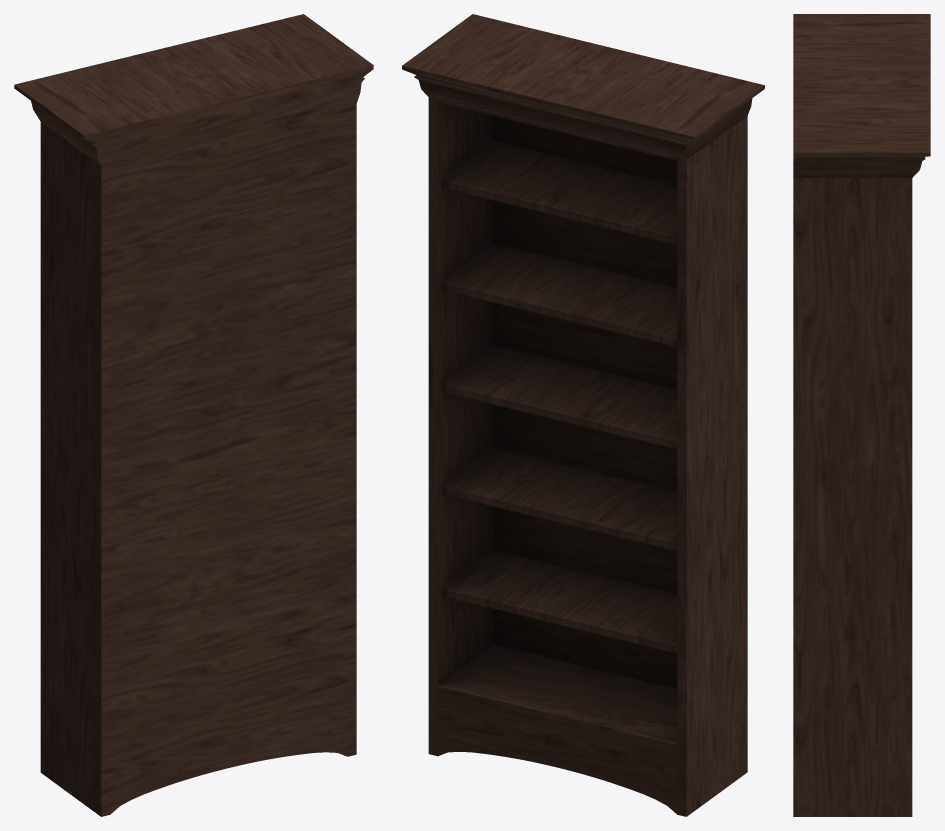
Rendered from Bookshelf_04.fbx.
3 views of the same model, side by side, from view 1: azimuth 30°, elevation 25°; view 2: azimuth 150°, elevation 25°; view 3: azimuth 270°, elevation 25° (orthographic). The views are drawn at different scales.
Parts seen in each view (by area): view 1: Bookshelf; view 2: Bookshelf; view 3: Bookshelf.
Boxes of the visible parts, x1,y1,x2,y2 form: Bookshelf: (14, 14, 373, 816); Bookshelf: (402, 14, 764, 816); Bookshelf: (793, 14, 930, 816).
Bounding box in the file's own units: 92 × 208 × 38.53.
